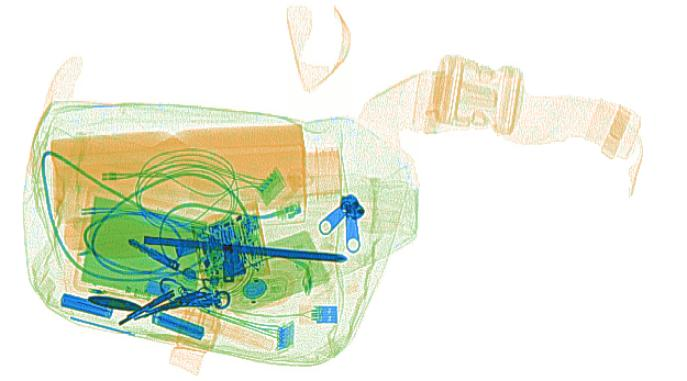battery: (151, 309, 205, 340), (59, 293, 114, 317)
